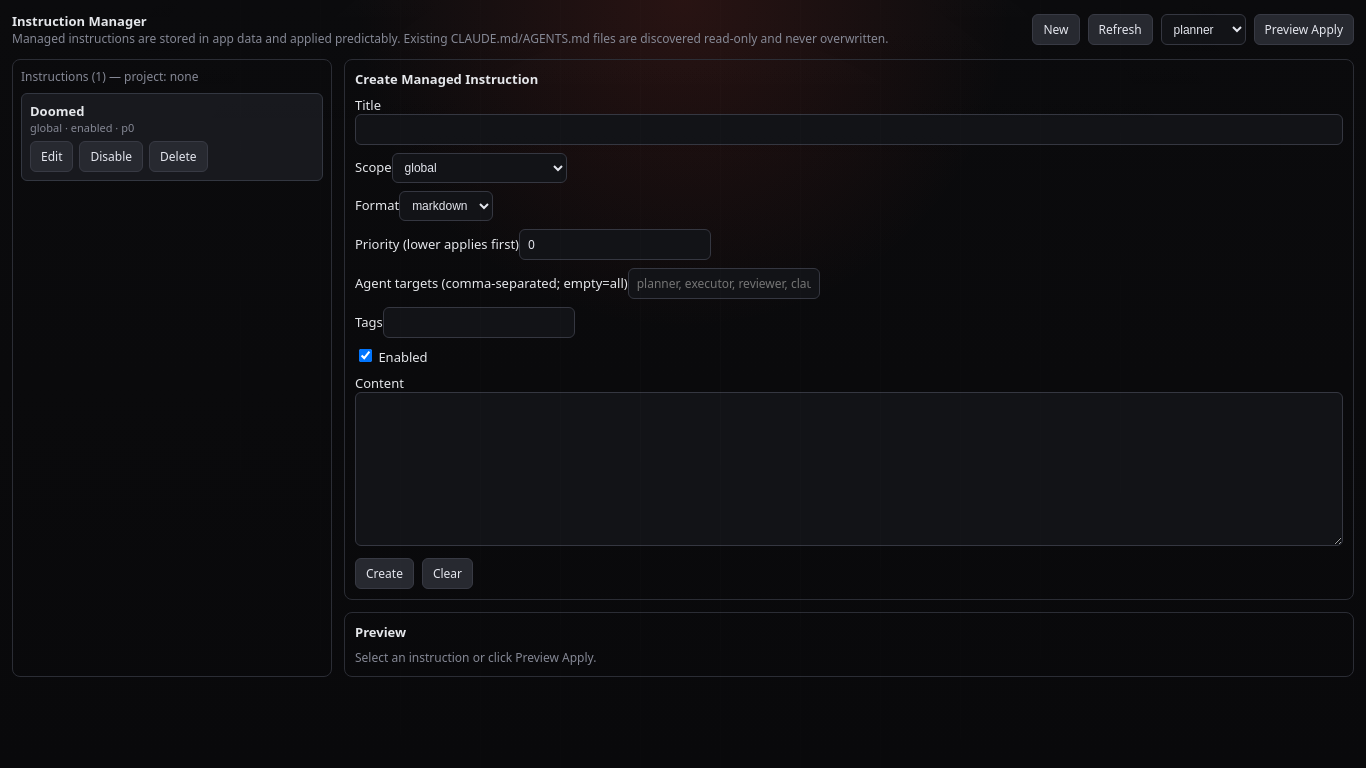
Scenario: InstructionManager › deletes an instruction after confirmation
Expected: the text "Doomed" is shown, [30,102,84,120]
Click the button "Delete": (178, 156) [149,141,208,172]
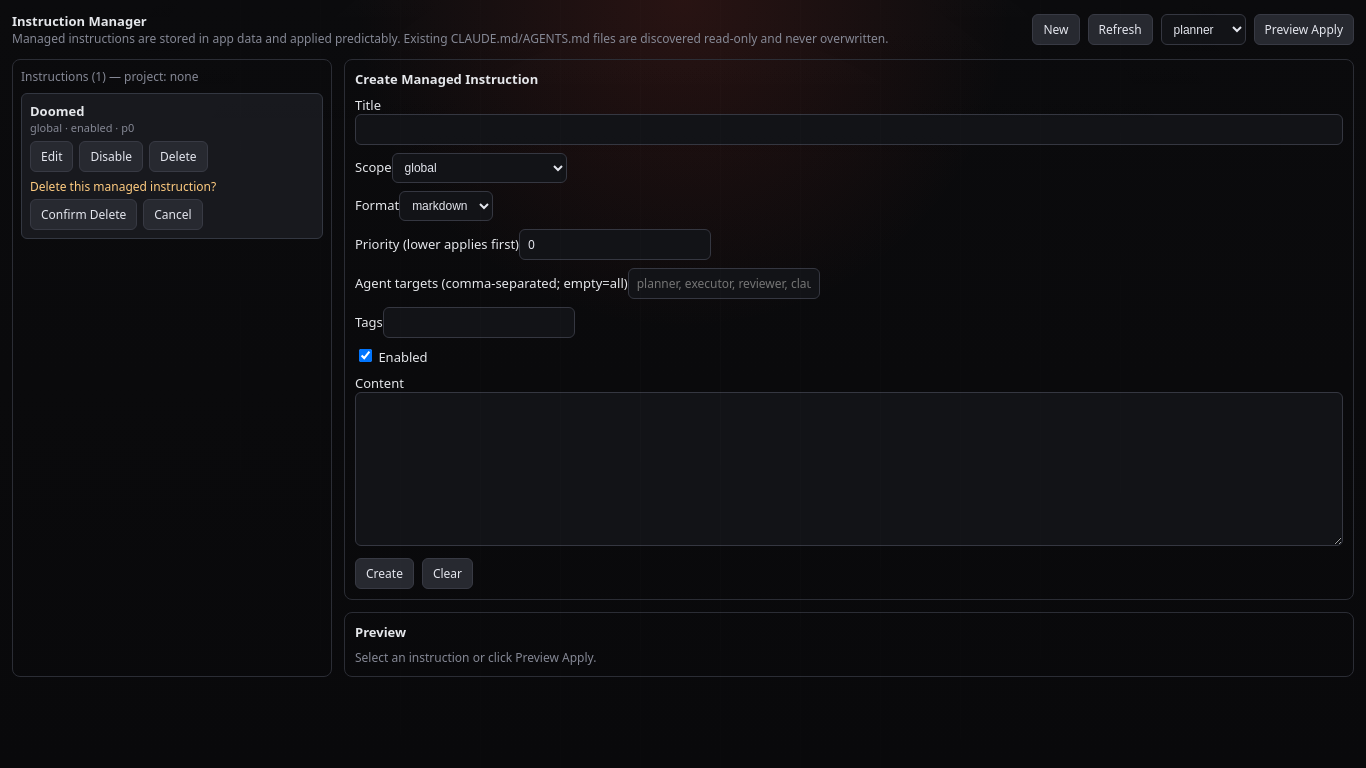
Result: the text "Delete this managed instruction? Confirm Delete Cancel" is shown at [30,178,216,230]
Click the button "Confirm Delete": (84, 214) [30,199,137,230]
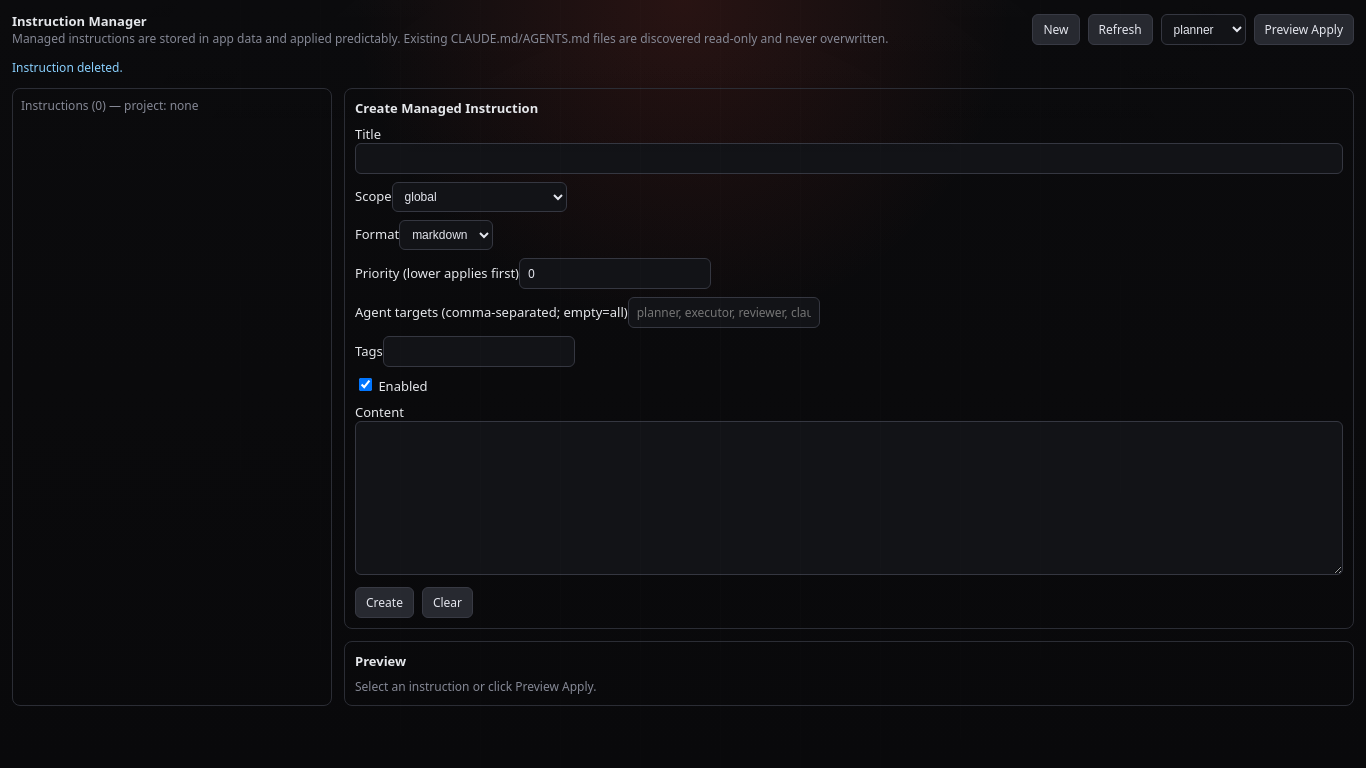
Result: the text "Instruction deleted." is shown at [12,59,123,76]
Result: the button "Doomed" is gone
